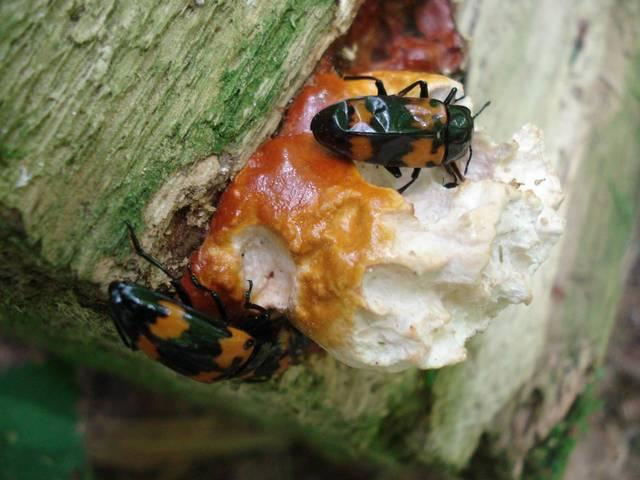Non-edible Mushroom: (235, 163, 577, 363)
